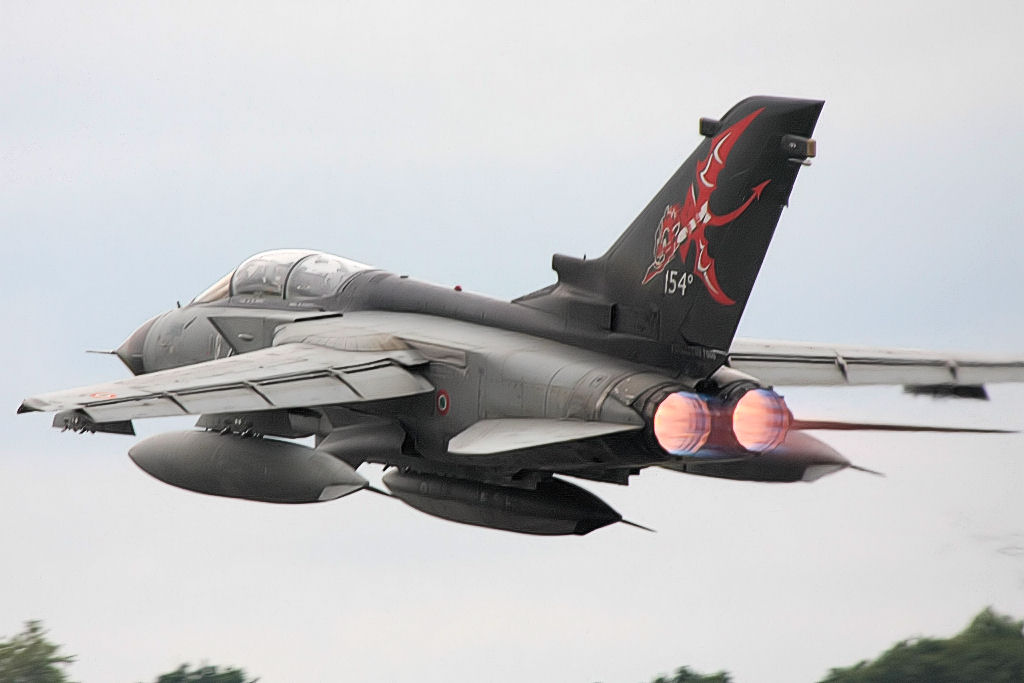Tornado: (16, 94, 1024, 537)
